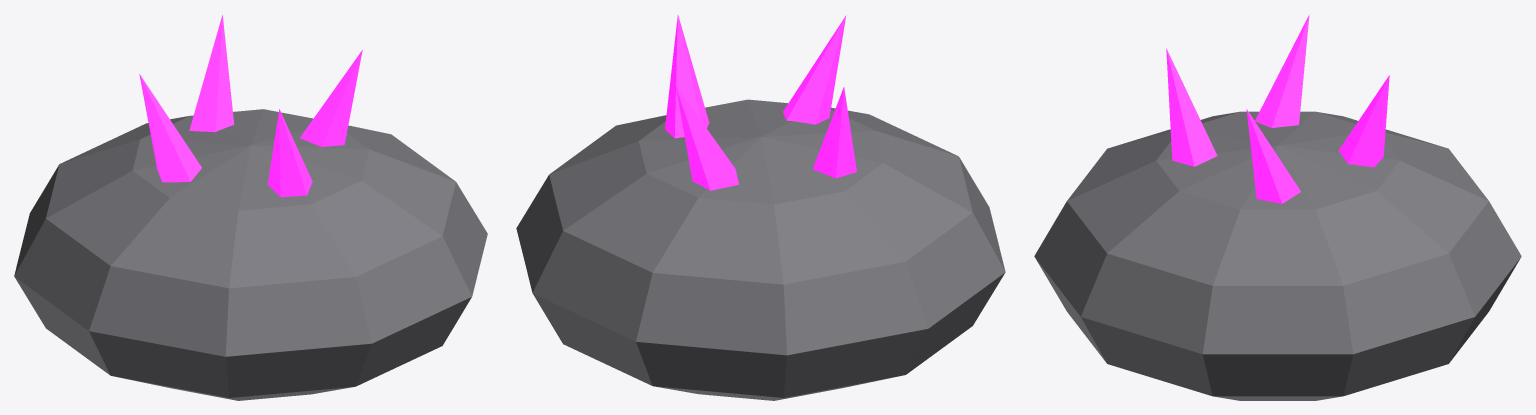
The model's file is ore_node_void.fbx.
The picture shows the model from 3 angles, left to right: view 1: azimuth 30°, elevation 25°; view 2: azimuth 150°, elevation 25°; view 3: azimuth 270°, elevation 25°; orthographic projection. The views are drawn at different scales.
Visible parts, largest first — view 1: Cone.003; view 2: Cone.003; view 3: Cone.003.
Part boxes in pixels (<box>): Cone.003: <box>14,15,487,400</box>; Cone.003: <box>516,15,1005,400</box>; Cone.003: <box>1034,14,1521,400</box>.
Bounding box in the file's own units: 228 × 166 × 240.
